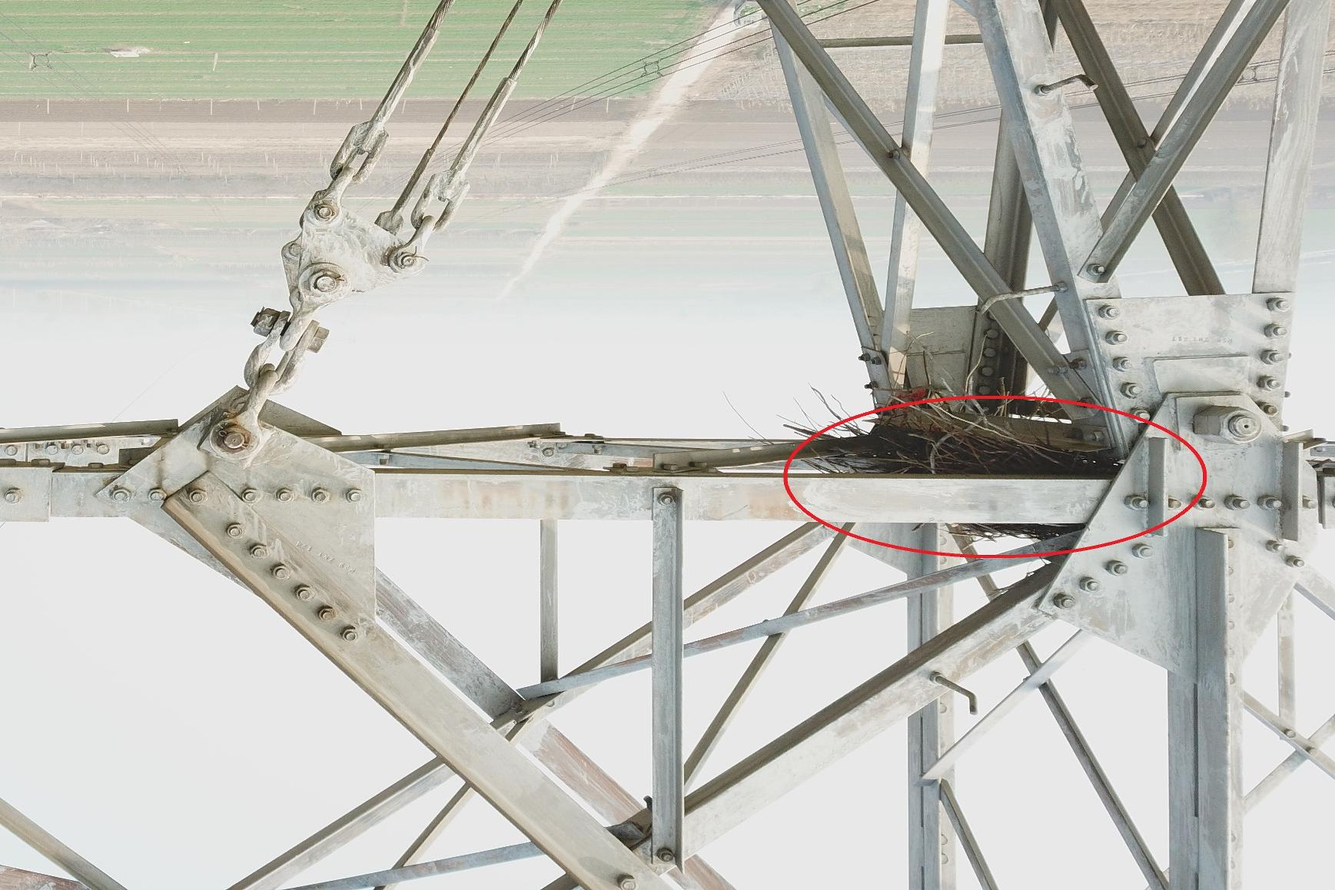nest: (784, 347, 1131, 553)
